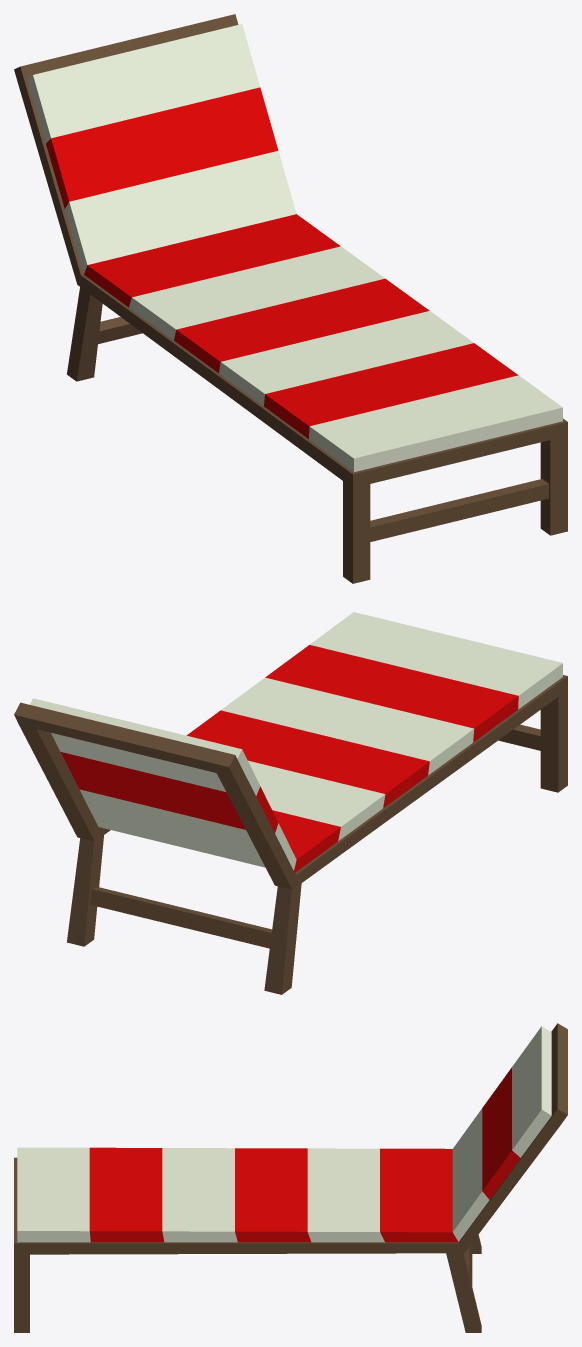
Rendered from bench_B.fbx.
The picture shows the model from 3 angles, top to bottom: view 1: azimuth 30°, elevation 25°; view 2: azimuth 150°, elevation 25°; view 3: azimuth 270°, elevation 25°; orthographic projection. The views are drawn at different scales.
Parts seen in each view (by area): view 1: Bench_B; view 2: Bench_B; view 3: Bench_B.
Boxes of the visible parts, <box> form: Bench_B: <box>14,14,567,583</box>; Bench_B: <box>14,612,567,994</box>; Bench_B: <box>14,1023,567,1332</box>.
Size of the model in its own units: 49.47 by 60.22 by 135.
1 material, 1 textured.
